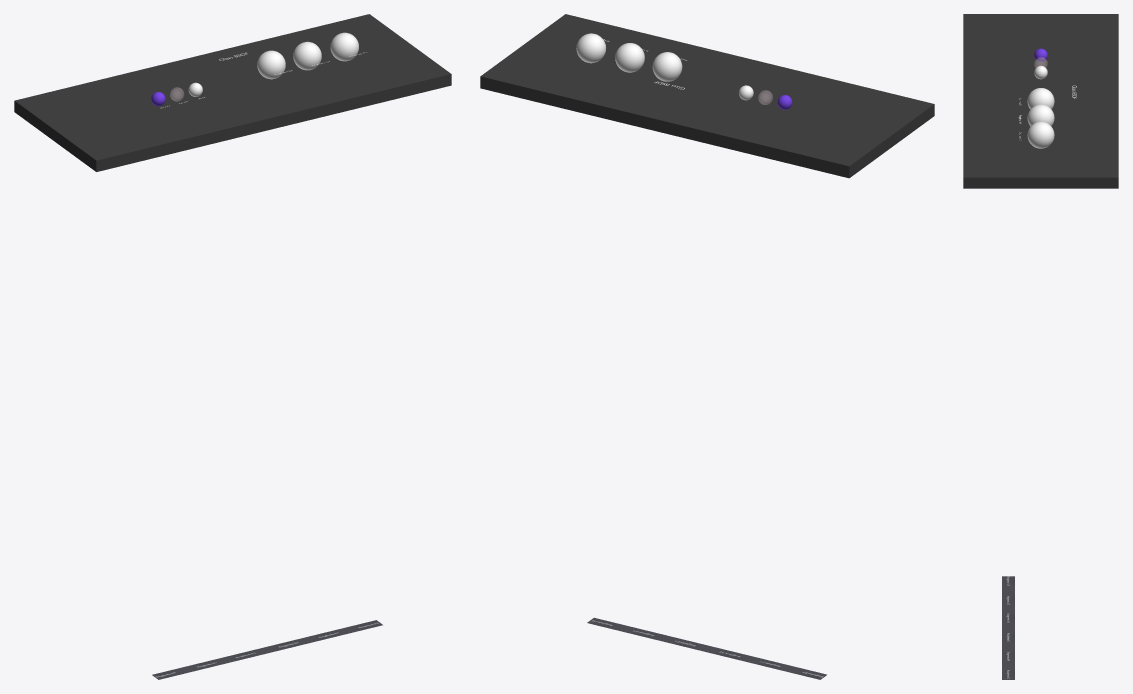
File: glass.gltf
The picture shows the model from 3 angles, left to right: view 1: azimuth 30°, elevation 25°; view 2: azimuth 150°, elevation 25°; view 3: azimuth 270°, elevation 25°; orthographic projection. The views are drawn at different scales.
Visible parts, largest first — view 1: Plane, Plane.001, Sphere.005, Sphere.003, Sphere.004; view 2: Plane, Plane.001, Sphere.004, Sphere.005, Sphere.003; view 3: Plane, Plane.001, Sphere.005, Sphere.004, Sphere.003.
Boxes of the visible parts, x1,y1,x2,y2 form: Plane: (14, 14, 451, 171); Plane.001: (152, 620, 382, 679); Sphere.005: (330, 32, 358, 61); Sphere.003: (257, 50, 285, 79); Sphere.004: (293, 41, 321, 70); Plane: (480, 14, 934, 178); Plane.001: (587, 617, 826, 679); Sphere.004: (615, 43, 644, 72); Sphere.005: (576, 33, 605, 63); Sphere.003: (652, 52, 682, 81); Plane: (963, 14, 1118, 188); Plane.001: (1002, 576, 1014, 679); Sphere.005: (1027, 121, 1054, 148); Sphere.004: (1027, 104, 1054, 126); Sphere.003: (1027, 88, 1054, 109).
Bounding box in the file's own units: 28.58 × 44.64 × 11.43.
8 materials, 1 textured.
